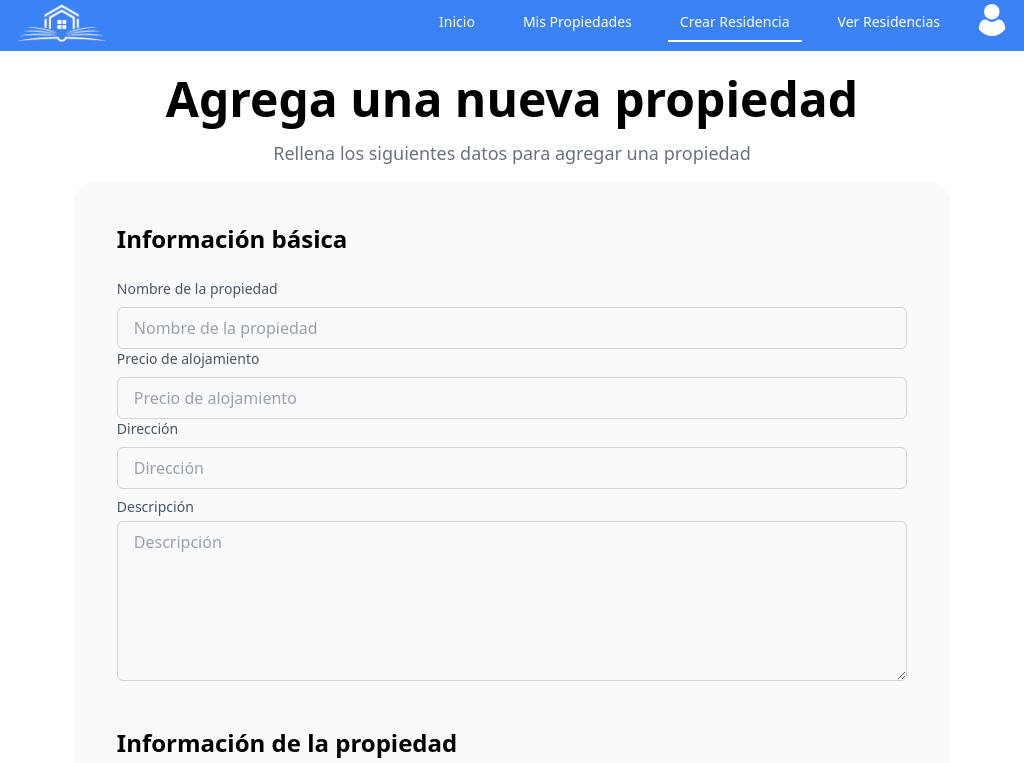
Test case: CreateHousing Form Interactions › when logged in as a propietario › should show client-side validation errors for invalid data
Step 1. Type "abc" into the field named "title" → (512, 328), box [117,307,907,349]
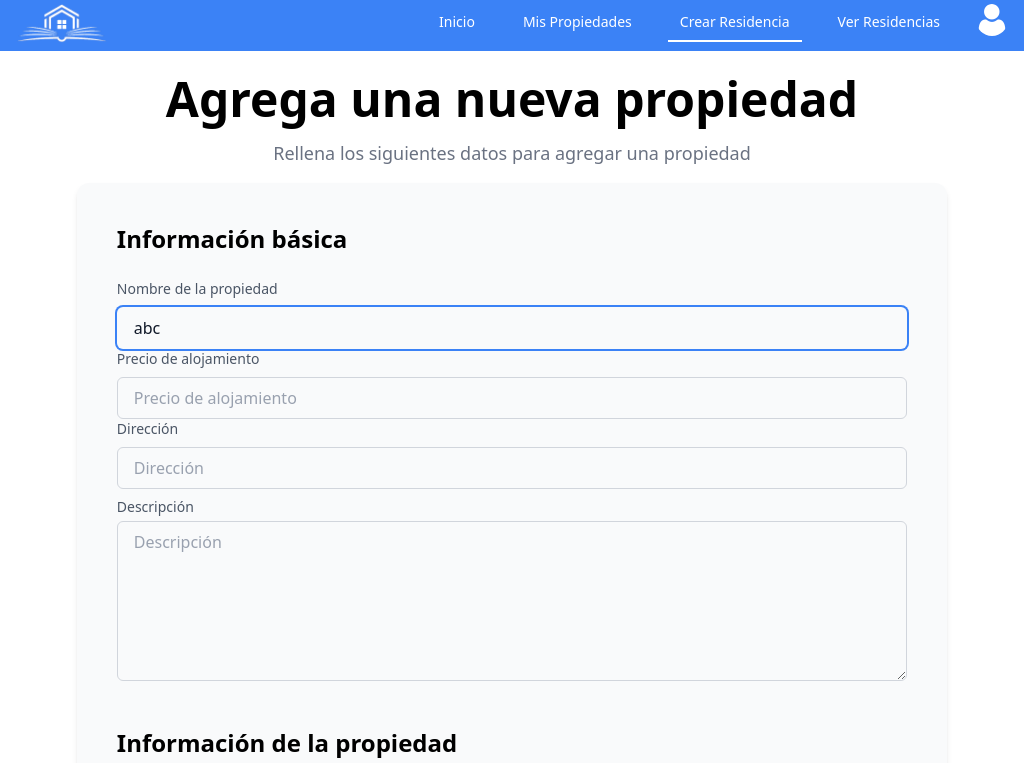
Step 2. Scroll
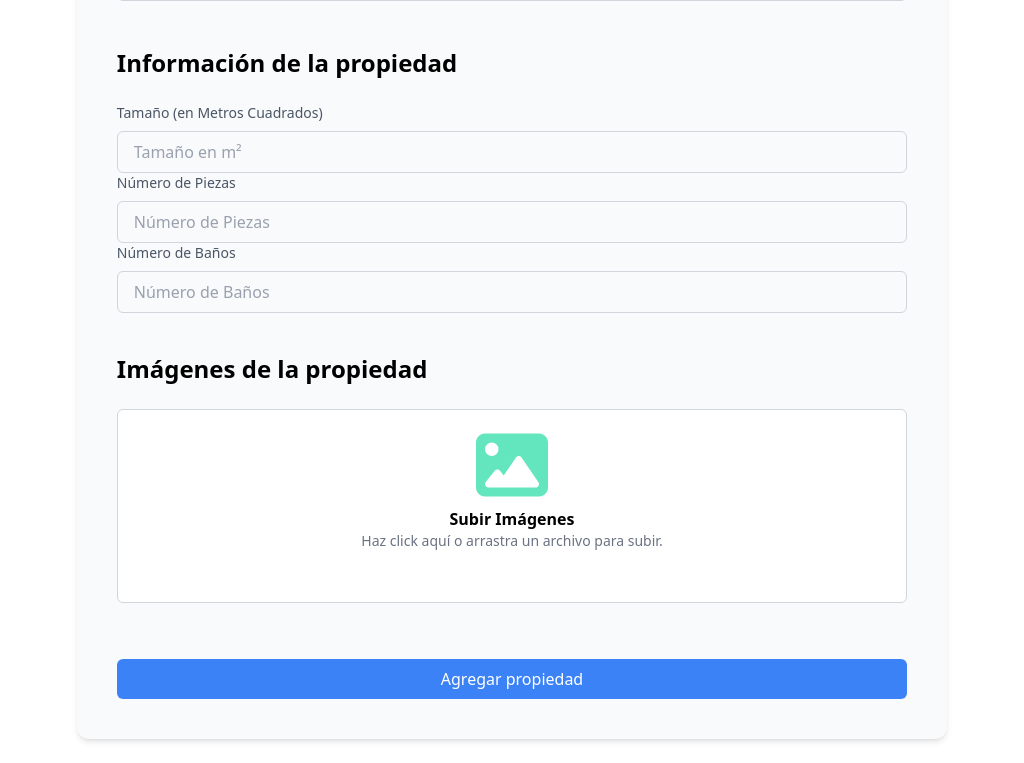
Step 3. Click the button "Agregar propiedad" → (512, 679), box [117,659,907,699]
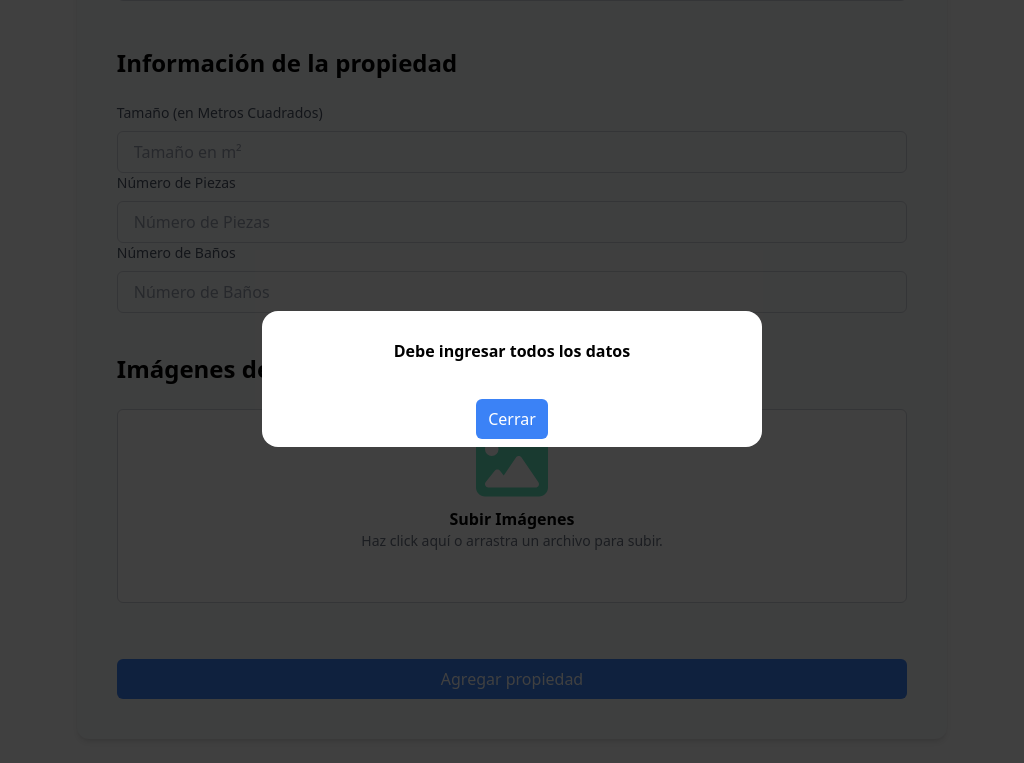
Check: the text "Debe ingresar todos los datos" is shown, box [394,340,630,362]
